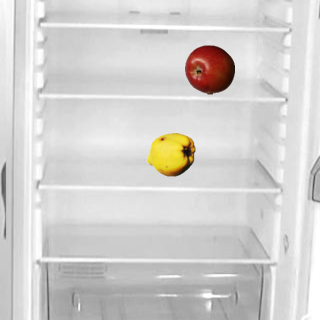Apple Braeburn: (184, 44, 234, 94)
Quince: (145, 129, 195, 179)
